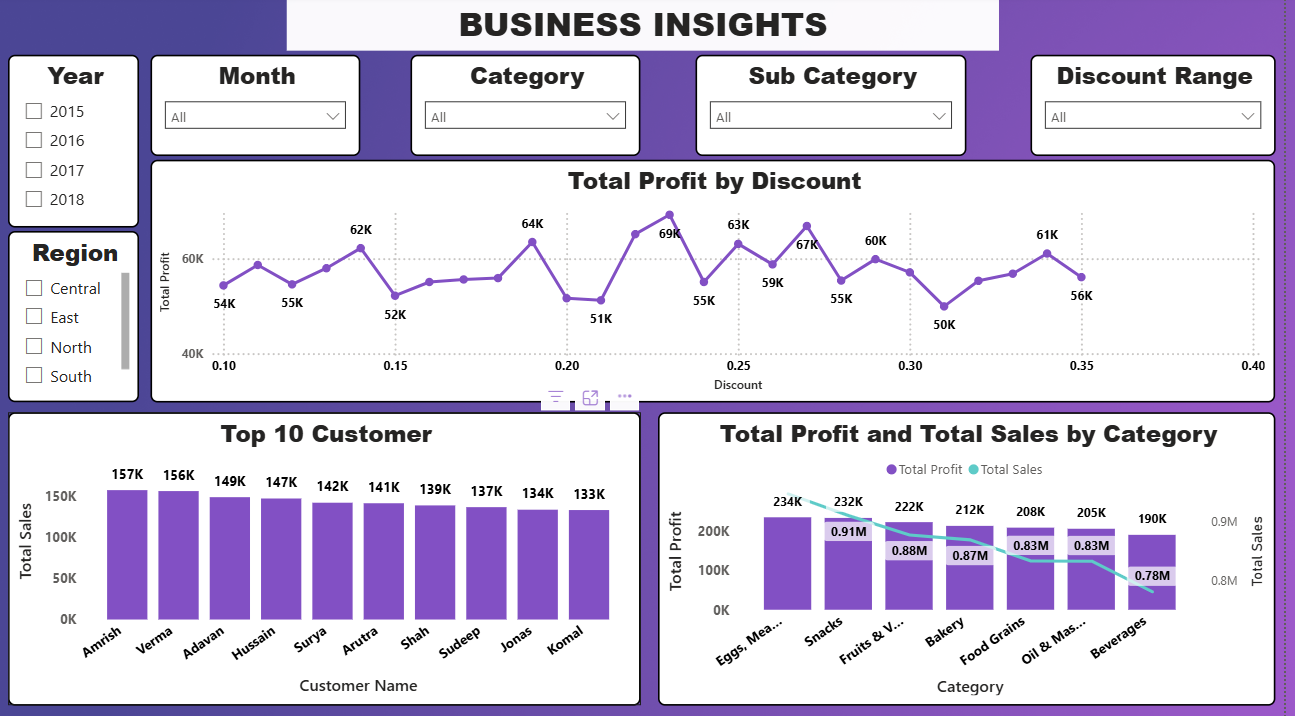

Layout of this report page (visuals, bound fields, positions):
{"tool":"powerbi","page":{"name":"Page 2","canvas":[1280,720],"ordinal":1},"visuals":[{"type":"slicer","title":"Year","fields":{"Values":["Supermart Grocery Sales - Retail Analytics Dataset (1).Year"]},"box":[10,58.5,130.6,171.7],"z":0},{"type":"slicer","title":"Category","fields":{"Values":["Supermart Grocery Sales - Retail Analytics Dataset (1).Category"]},"box":[410.5,58.5,228.9,100.8],"z":1000},{"type":"slicer","title":"Region","fields":{"Values":["Supermart Grocery Sales - Retail Analytics Dataset (1).Region"]},"box":[9.6,233.3,130.4,170.2],"z":2000},{"type":"slicer","title":"Sub Category","fields":{"Values":["Supermart Grocery Sales - Retail Analytics Dataset (1).Sub Category"]},"box":[694.1,58.5,269.9,100.8],"z":3000},{"type":"slicer","title":"Discount Range","fields":{"Values":["Supermart Grocery Sales - Retail Analytics Dataset (1).Discount"]},"box":[1027.5,58.5,243.8,100.8],"z":4000},{"type":"slicer","title":"Month","fields":{"Values":["Supermart Grocery Sales - Retail Analytics Dataset (1).Month"]},"box":[151.8,58.5,209,100.8],"z":5000},{"type":"lineChart","fields":{"Category":["Supermart Grocery Sales - Retail Analytics Dataset (1).Discount"],"Y":["Supermart Grocery Sales - Retail Analytics Dataset (1).Total Profit"]},"box":[151.8,163,1119.6,241.3],"z":6000},{"type":"lineClusteredColumnComboChart","title":"Top 10 Customer ","fields":{"Category":["Supermart Grocery Sales - Retail Analytics Dataset (1).Customer Name"],"Y":["Supermart Grocery Sales - Retail Analytics Dataset (1).Total Sales"]},"box":[9.6,414.4,629.8,292.3],"z":7000},{"type":"lineClusteredColumnComboChart","fields":{"Y":["Supermart Grocery Sales - Retail Analytics Dataset (1).Total Profit"],"Category":["Supermart Grocery Sales - Retail Analytics Dataset (1).Category"],"Y2":["Supermart Grocery Sales - Retail Analytics Dataset (1).Total Sales"]},"box":[657.3,414.4,614.8,292.3],"z":8000},{"type":"textbox","box":[287.4,0,709.1,54.7],"z":9000}]}

Visuals, with their boxes in screenshot pixels (x1, y1, x2, y2), scaled from the page's 1280x720 canvas onto the 1295x716 screenshot:
"Year" slicer: bbox=[10, 58, 142, 229]
"Category" slicer: bbox=[415, 58, 647, 158]
"Region" slicer: bbox=[10, 232, 142, 401]
"Sub Category" slicer: bbox=[702, 58, 975, 158]
"Discount Range" slicer: bbox=[1040, 58, 1286, 158]
"Month" slicer: bbox=[154, 58, 365, 158]
lineChart - Supermart Grocery Sales - Retail Analytics Dataset (1).Discount x Supermart Grocery Sales - Retail Analytics Dataset (1).Total Profit: bbox=[154, 162, 1286, 402]
"Top 10 Customer " lineClusteredColumnComboChart: bbox=[10, 412, 647, 703]
lineClusteredColumnComboChart - Supermart Grocery Sales - Retail Analytics Dataset (1).Total Profit x Supermart Grocery Sales - Retail Analytics Dataset (1).Category: bbox=[665, 412, 1287, 703]
textbox: bbox=[291, 0, 1008, 54]
